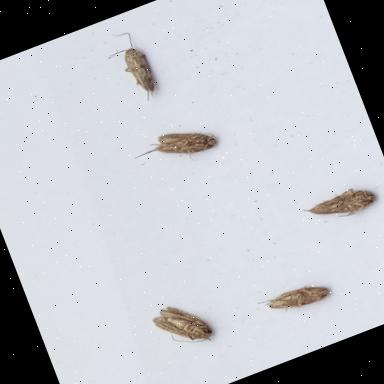pbw: (131, 118, 221, 180), (101, 26, 163, 110), (150, 294, 218, 358), (302, 182, 382, 232), (258, 276, 334, 323)
